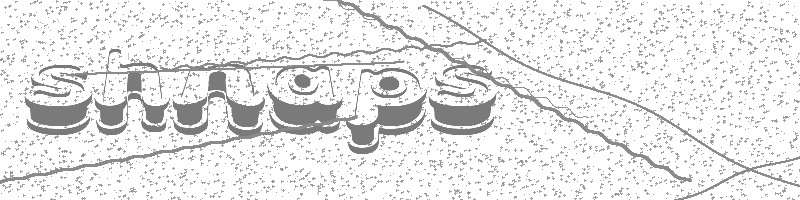a: (265, 61, 343, 136)
h: (93, 46, 172, 137)
n: (171, 61, 264, 141)
p: (345, 67, 428, 155)
s: (23, 61, 92, 135), (427, 63, 497, 135)
